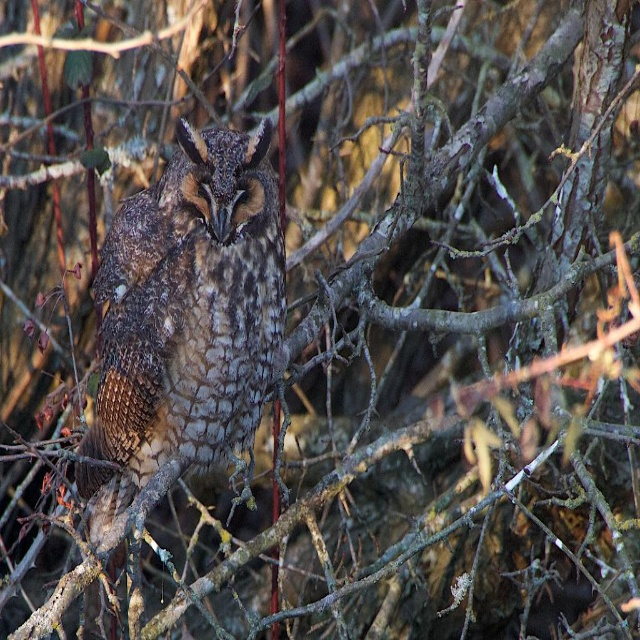Owl: (71, 116, 286, 524)
